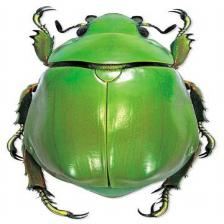green: (7, 6, 215, 218)
